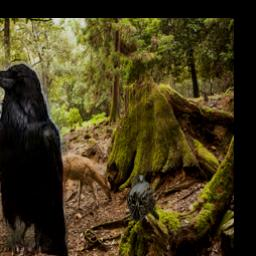Crow: (0, 62, 69, 256)
Sparrow: (127, 175, 159, 221)
